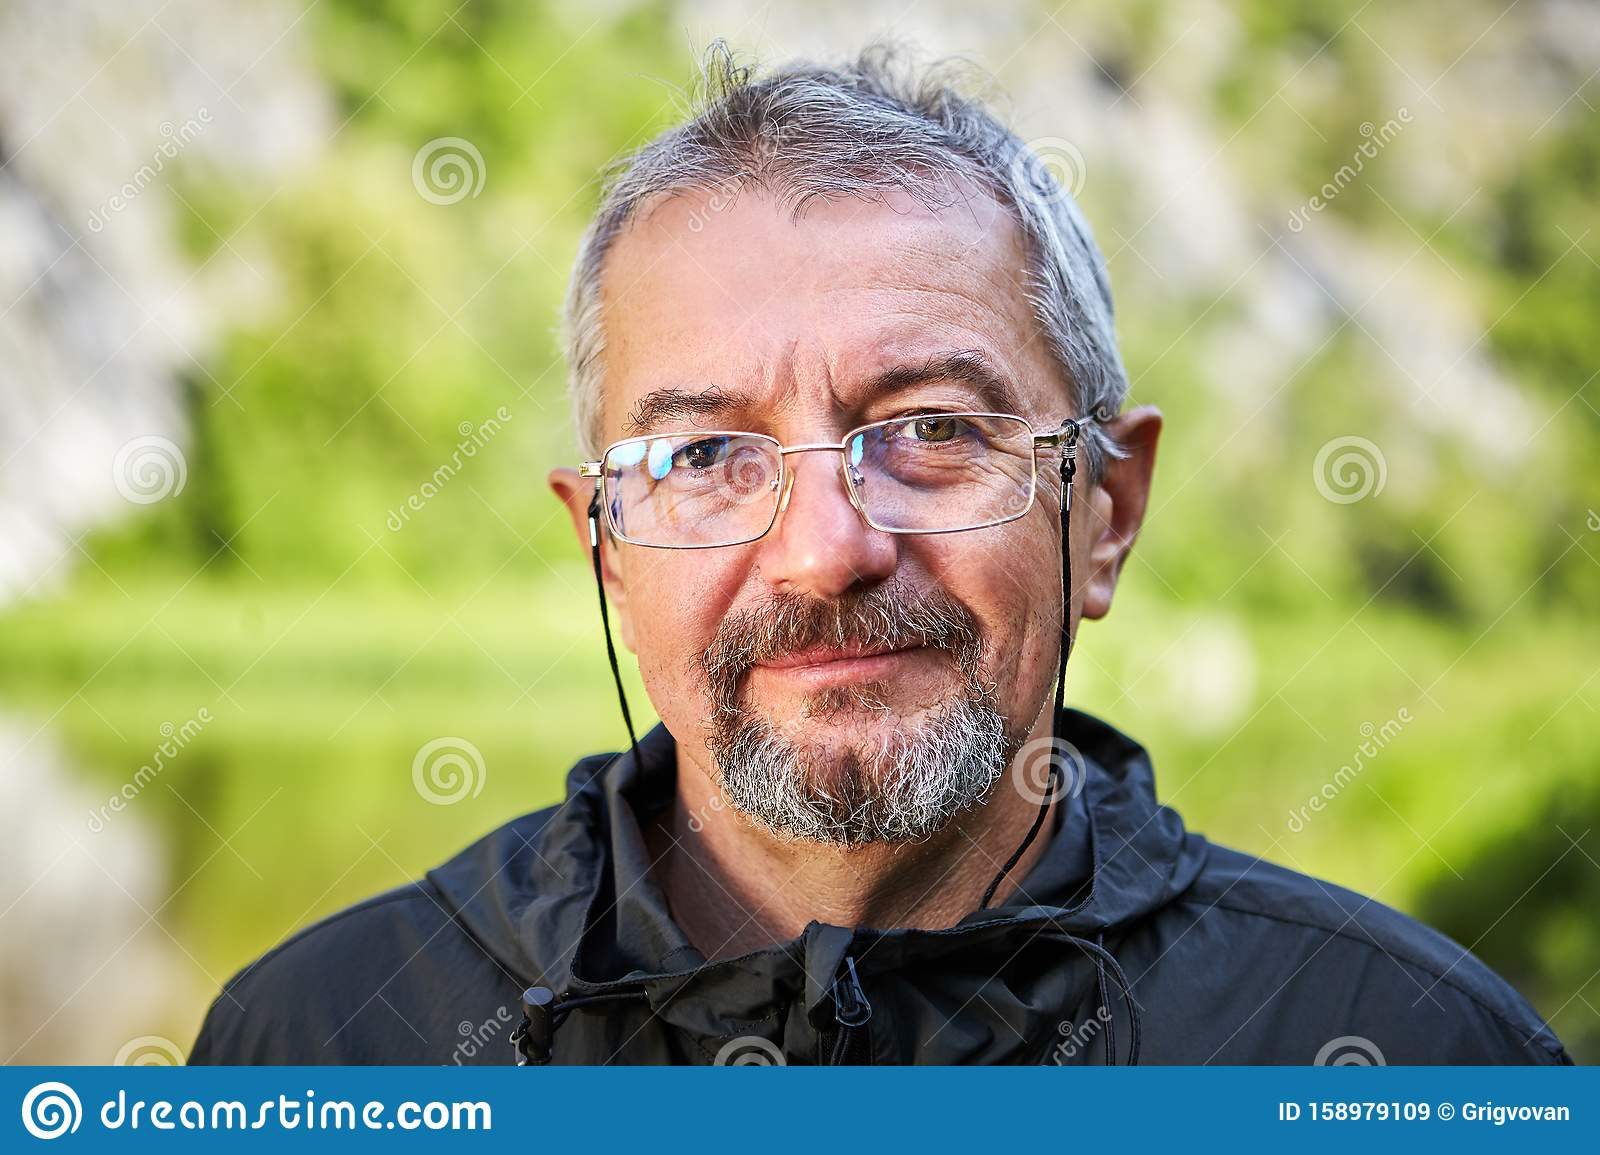glasses: (568, 381, 1106, 568)
